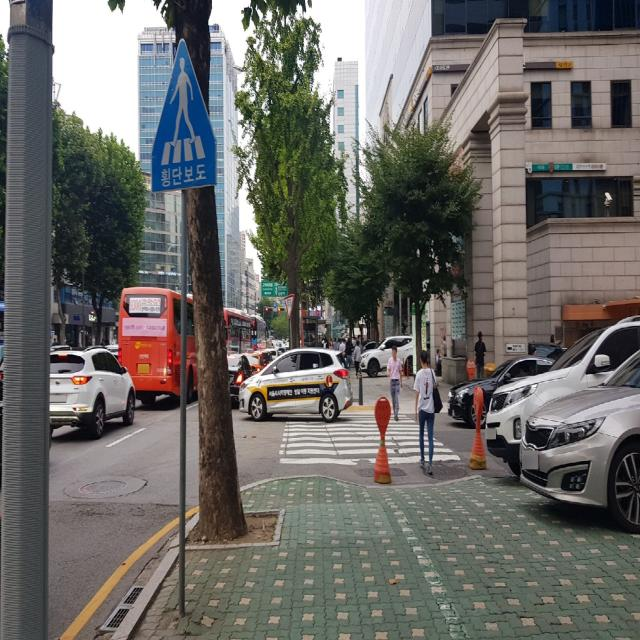횡단보도: (278, 414, 461, 466)
